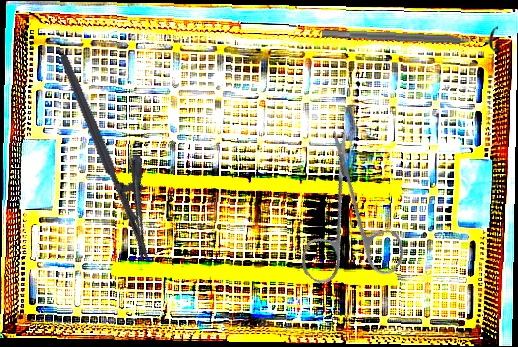Fixation Ring: (321, 18, 499, 54)
Iris Scissors: (252, 124, 445, 317)
Needle Holder: (57, 41, 179, 265)
